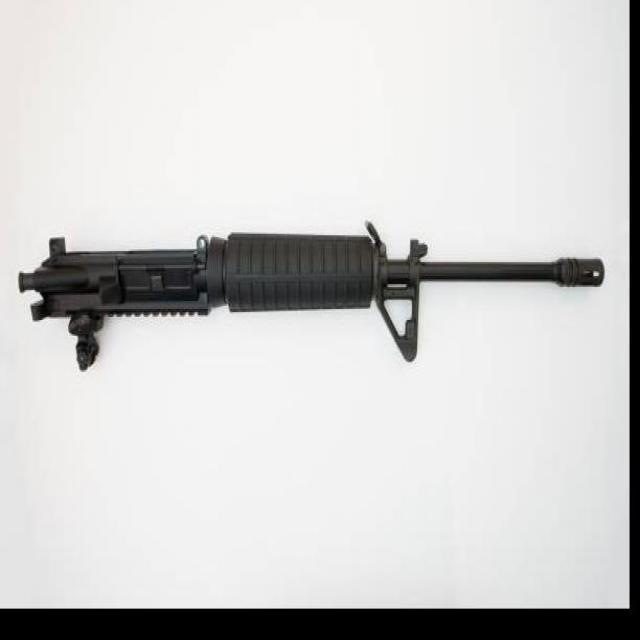weapon: (18, 221, 606, 371)
